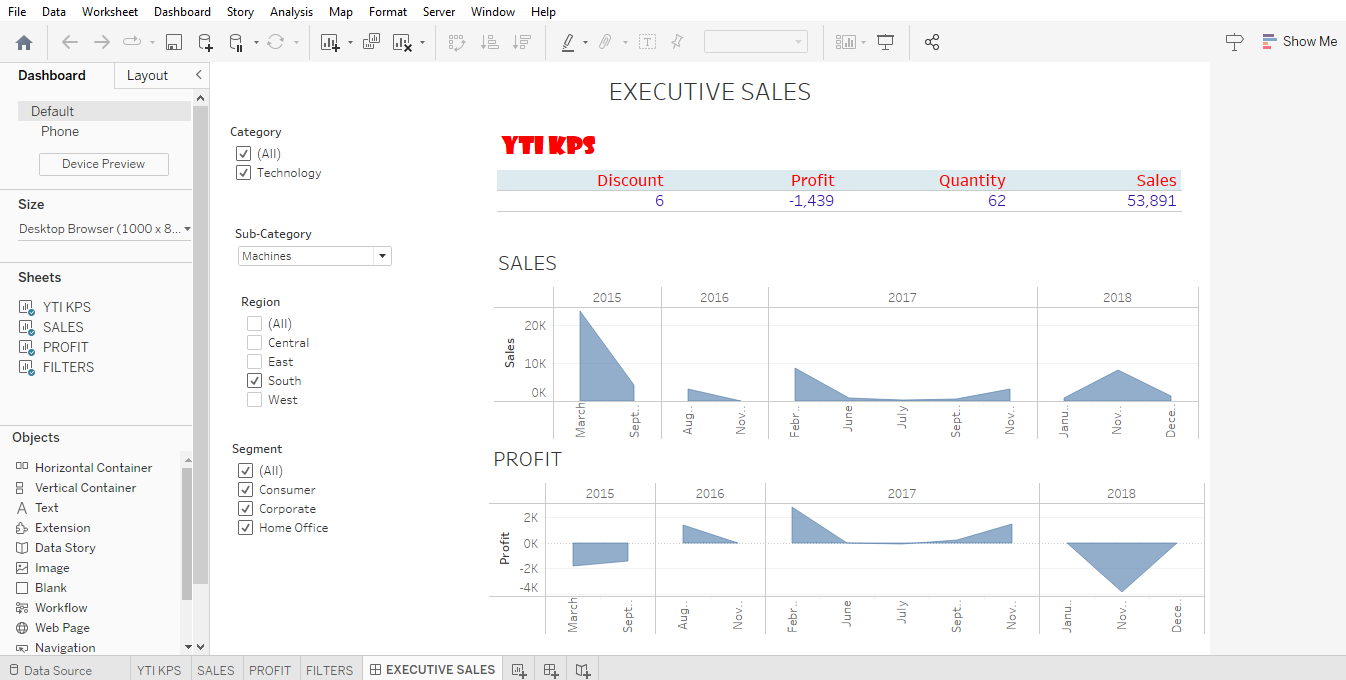

What the dashboard file says about the page in this screenshot:
{"tool":"tableau","page":{"name":"EXECUTIVE SALES","canvas":[1000,800],"ordinal":0},"visuals":[{"type":"title","box":[8,8,984,42]},{"type":"worksheet","title":"FILTERS","mark":"Area","box":[13,19,333,197]},{"type":"filter","title":"FILTERS","param":"[federated.1k9obbz0eo0blw1a84vyy09hjo1w].[none:Category:nk]","box":[20,61,160,92]},{"type":"worksheet","title":"YTI KPS","mark":"Text","box":[287,63,701,147]},{"type":"filter","title":"FILTERS","param":"[federated.1k9obbz0eo0blw1a84vyy09hjo1w].[none:Sub-Category:nk]","box":[25,163,160,44]},{"type":"worksheet","title":"SALES","mark":"Area","rows":["Sales"],"cols":["Order Date","Order Date"],"box":[284,182,705,197]},{"type":"filter","title":"FILTERS","param":"[federated.1k9obbz0eo0blw1a84vyy09hjo1w].[none:Region:nk]","box":[31,231,160,119]},{"type":"filter","title":"FILTERS","param":"[federated.1k9obbz0eo0blw1a84vyy09hjo1w].[none:Segment:nk]","box":[22,378,160,100]},{"type":"worksheet","title":"PROFIT","mark":"Area","rows":["Profit"],"cols":["Order Date","Order Date"],"box":[279,378,716,196]}]}

Visuals, with their boxes on the page's 1000x800 design canvas (x1, y1, x2, y2). These are canvas units, not pixel positions in the 1346x680 screenshot, which may show the page scaled, cropped or inside an application window:
title: rect(8, 8, 992, 50)
"FILTERS" worksheet (Area marks): rect(13, 19, 346, 216)
"FILTERS" filter: rect(20, 61, 180, 153)
"YTI KPS" worksheet (Text marks): rect(287, 63, 988, 210)
"FILTERS" filter: rect(25, 163, 185, 207)
"SALES" worksheet (Area marks): rect(284, 182, 989, 379)
"FILTERS" filter: rect(31, 231, 191, 350)
"FILTERS" filter: rect(22, 378, 182, 478)
"PROFIT" worksheet (Area marks): rect(279, 378, 995, 574)
